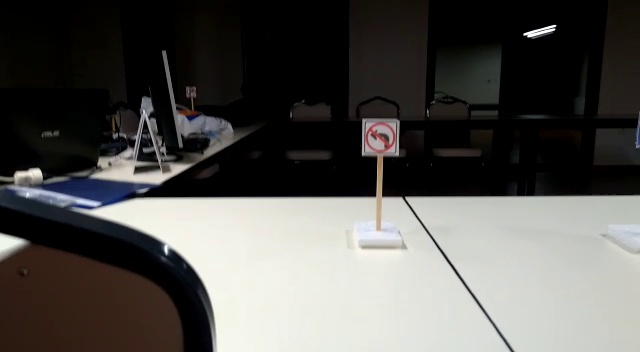sola_donulmez: (361, 117, 401, 154)
